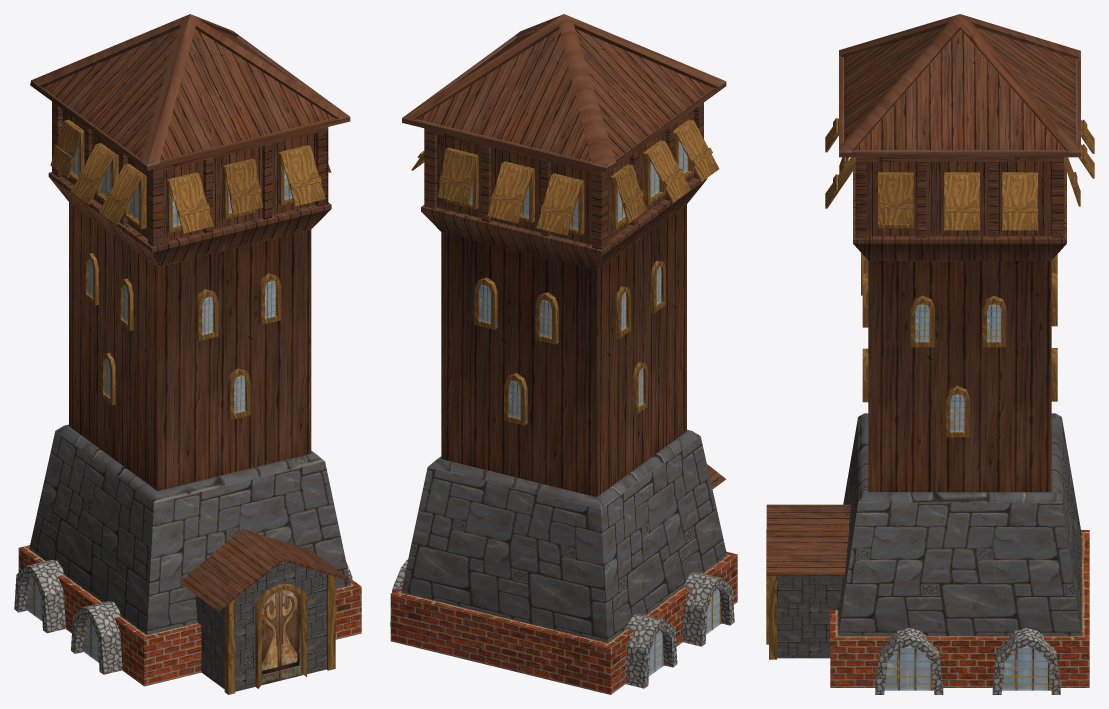
The model's file is WatchTower.glb.
3 renders of one model, left to right at view 1: azimuth 30°, elevation 25°; view 2: azimuth 150°, elevation 25°; view 3: azimuth 270°, elevation 25°, orthographic. The views are drawn at different scales.
Visible parts, largest first — view 1: WatchTower.001; view 2: WatchTower.001; view 3: WatchTower.001.
Boxes of the visible parts, x1,y1,x2,y2 form: WatchTower.001: (14, 14, 361, 694); WatchTower.001: (390, 14, 737, 694); WatchTower.001: (766, 14, 1094, 694).
Bounding box in the file's own units: 2.45 × 5.62 × 2.7.
Materials: 1 (1 with a texture image).
